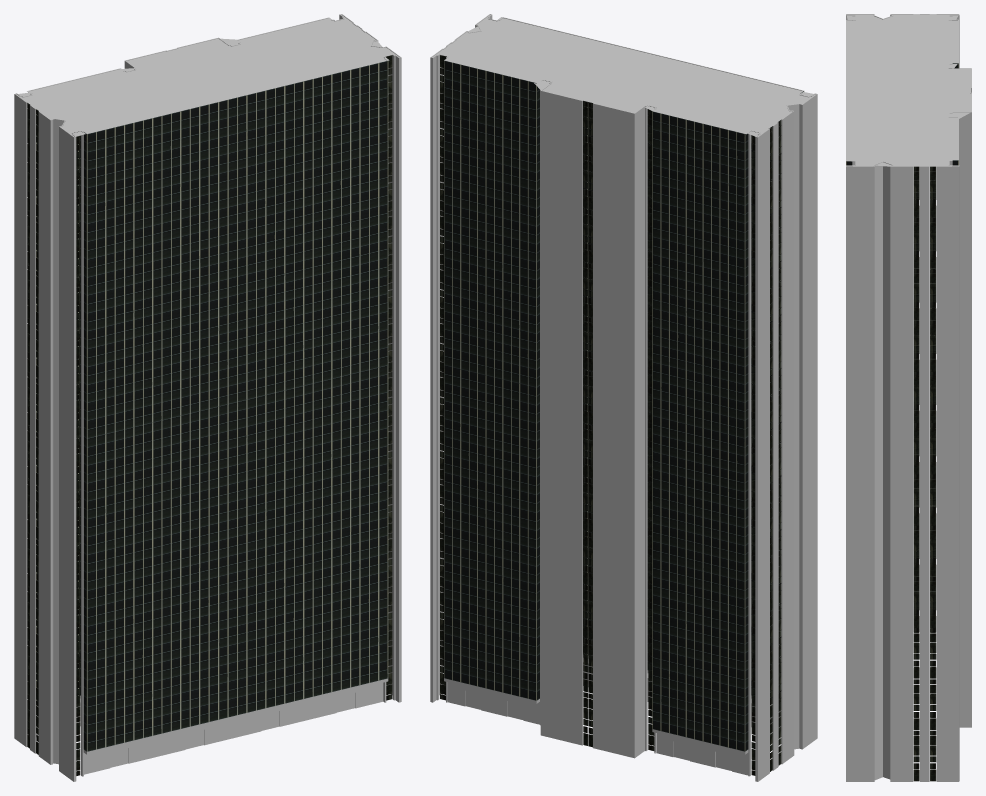
3 renders of one model, left to right at view 1: azimuth 30°, elevation 25°; view 2: azimuth 150°, elevation 25°; view 3: azimuth 270°, elevation 25°, orthographic. The views are drawn at different scales.
Parts seen in each view (by area): view 1: BC-027; view 2: BC-027; view 3: BC-027.
Part boxes in pixels (x1,y1,x2,y2): BC-027: (14,14,401,781); BC-027: (430,14,817,781); BC-027: (846,14,971,781).
Size of what is drawn, in the model's own units: 57.45 by 108 by 20.04.
